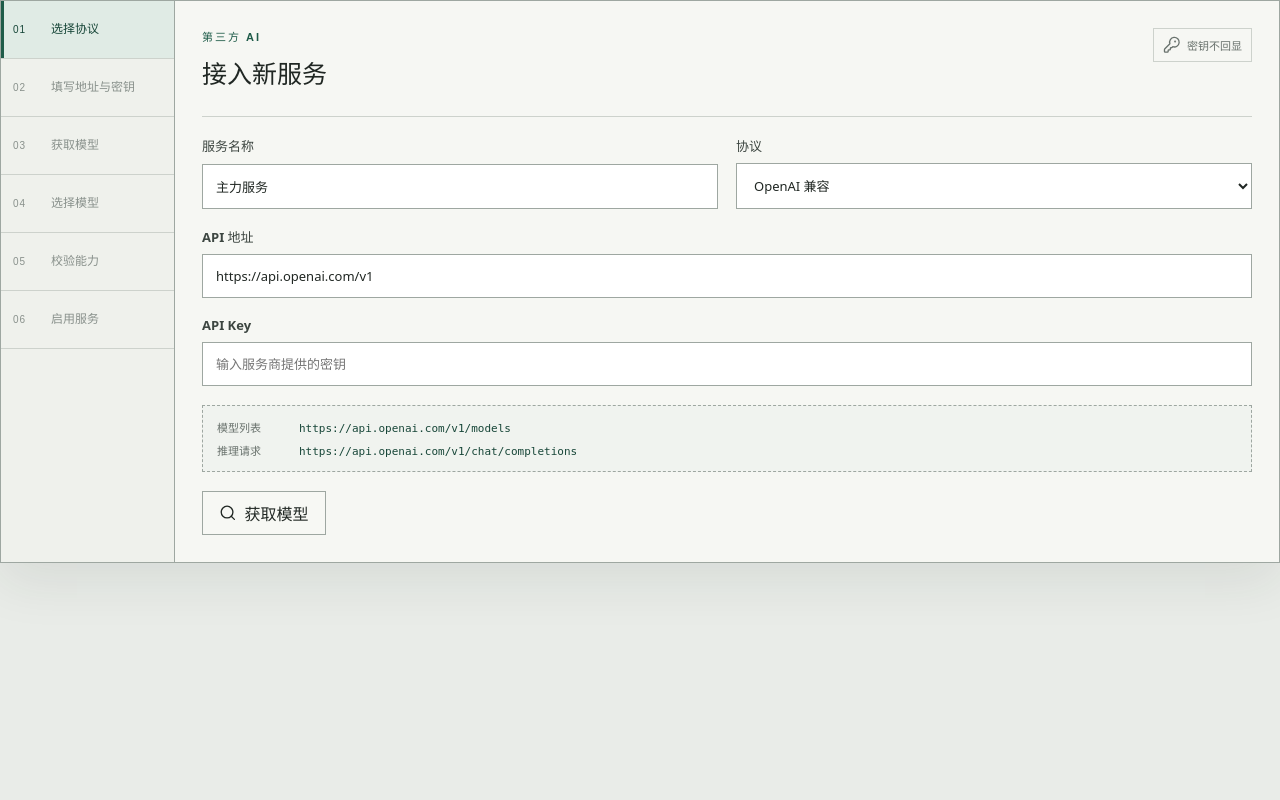
it: previews endpoints, fetches models, probes capabilities, and enables a provider
The image size is (1280, 800).
Select "Anthropic" in the dropdown labelled "协议". click: {"x": 994, "y": 186}
box: left=736, top=163, right=1252, bottom=209
Replace the text in the field labelled "API 地址" with "https://relay.test". click: {"x": 727, "y": 276}
box: left=202, top=254, right=1252, bottom=298
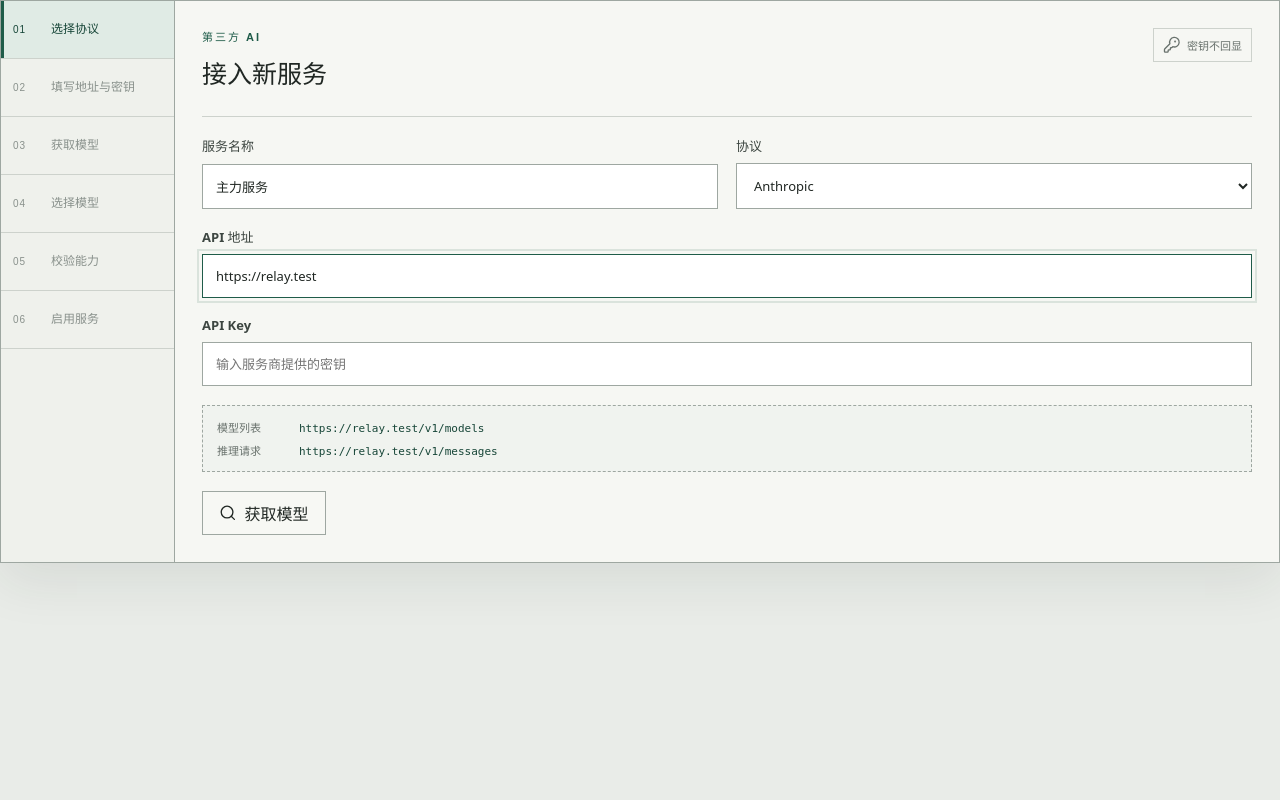
Check: the text "https://relay.test/v1/models" is shown, box left=299, top=422, right=484, bottom=435
Type "sk-test" into the password field labelled "API Key". click: {"x": 727, "y": 364}
box: left=202, top=342, right=1252, bottom=386
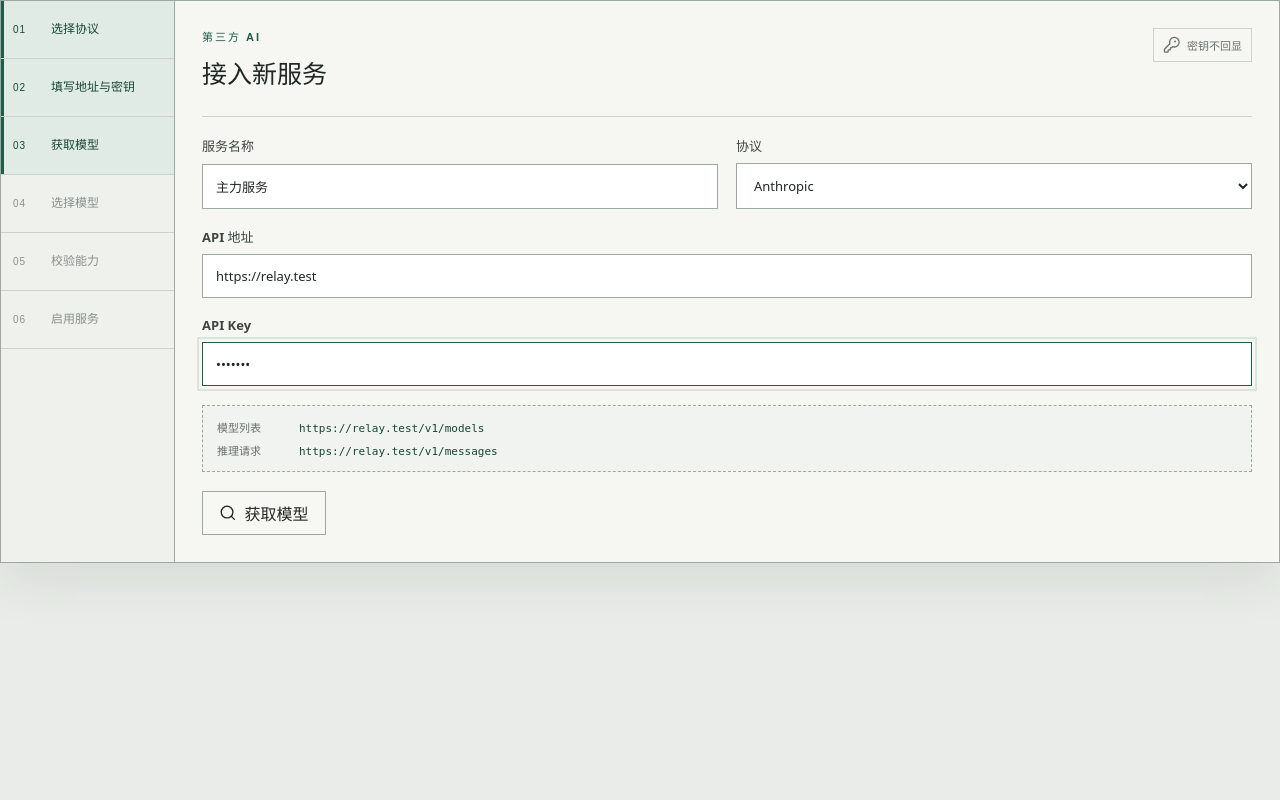
Click the button "获取模型". click: {"x": 264, "y": 513}
box: left=202, top=491, right=326, bottom=535
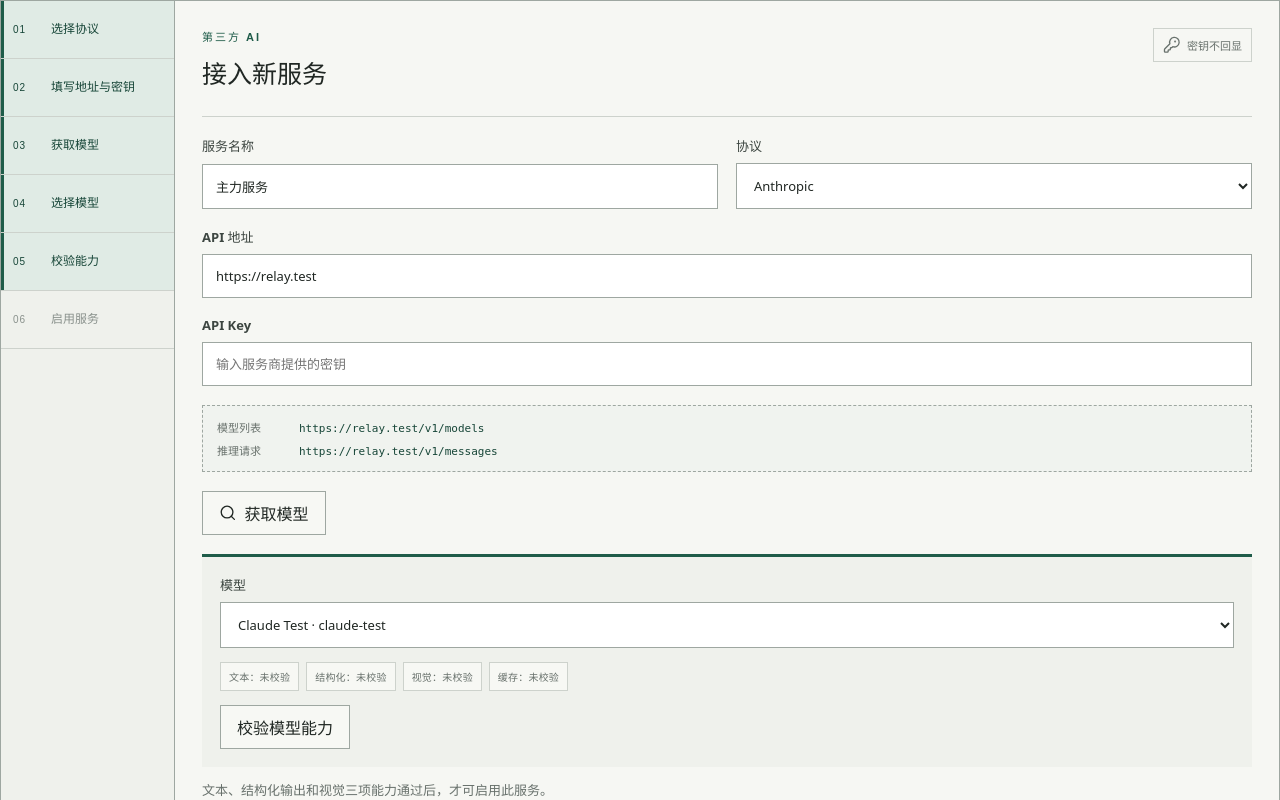
Select "Claude Test · claude-test" in the dropdown labelled "模型". click: {"x": 727, "y": 625}
box: left=220, top=602, right=1234, bottom=648
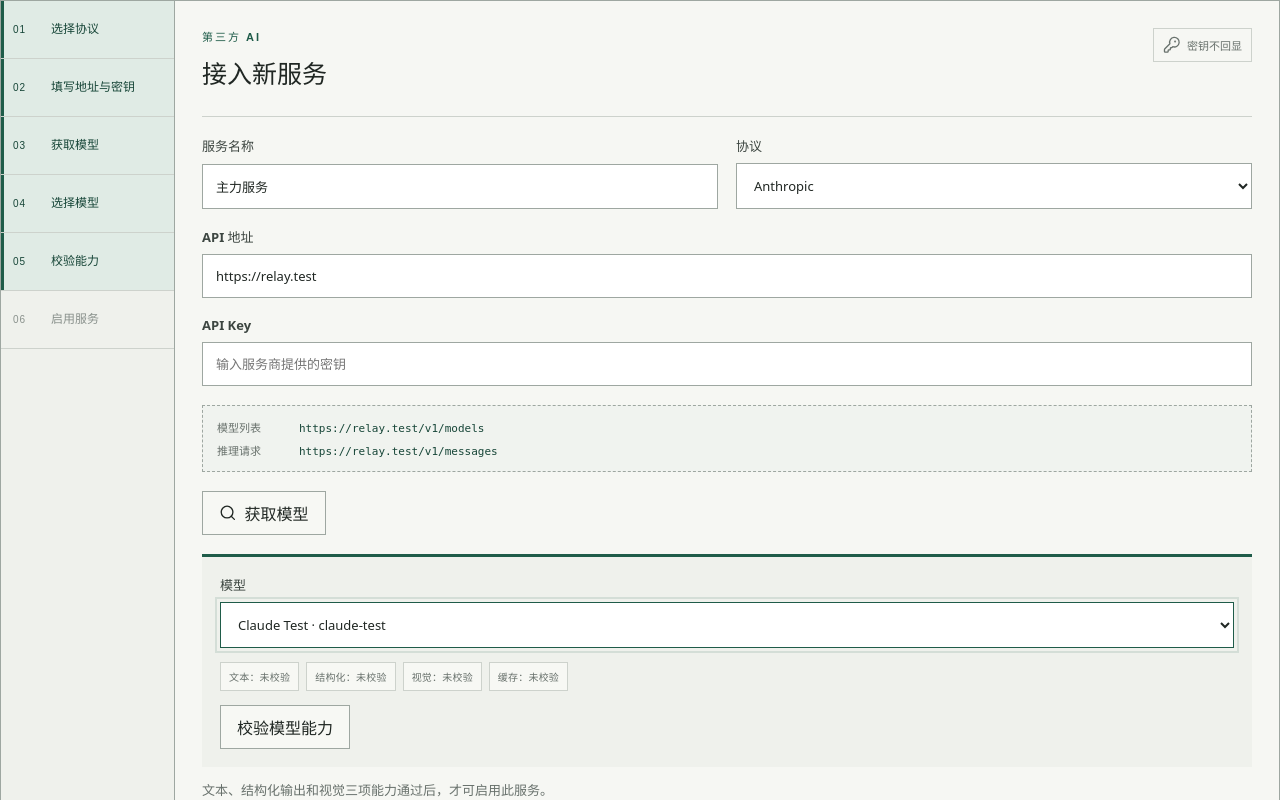
Click the button "校验模型能力". click: {"x": 285, "y": 727}
box: left=220, top=705, right=350, bottom=749
(page scrolled)
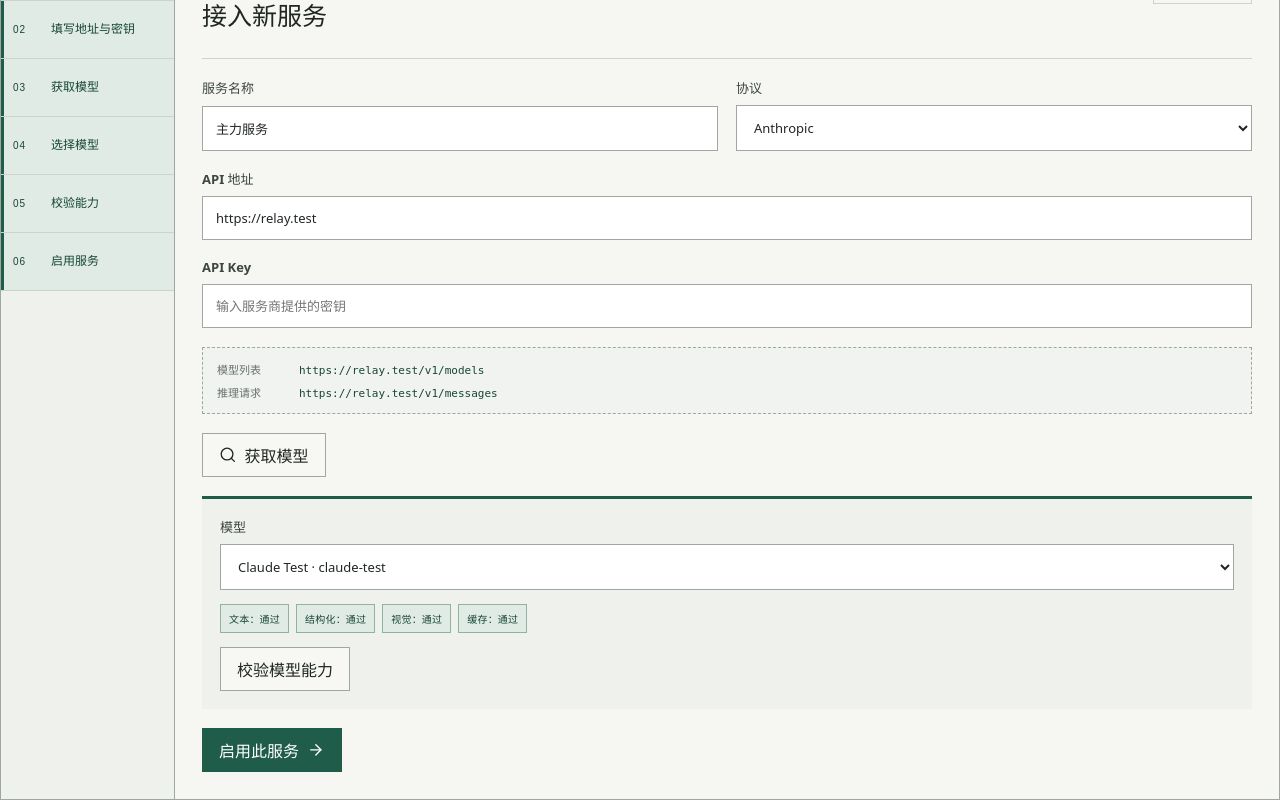
Check: the text "视觉：通过" is shown, box left=382, top=604, right=451, bottom=633
Click the button "启用此服务". click: {"x": 272, "y": 750}
box: left=202, top=728, right=342, bottom=772
(page scrolled)
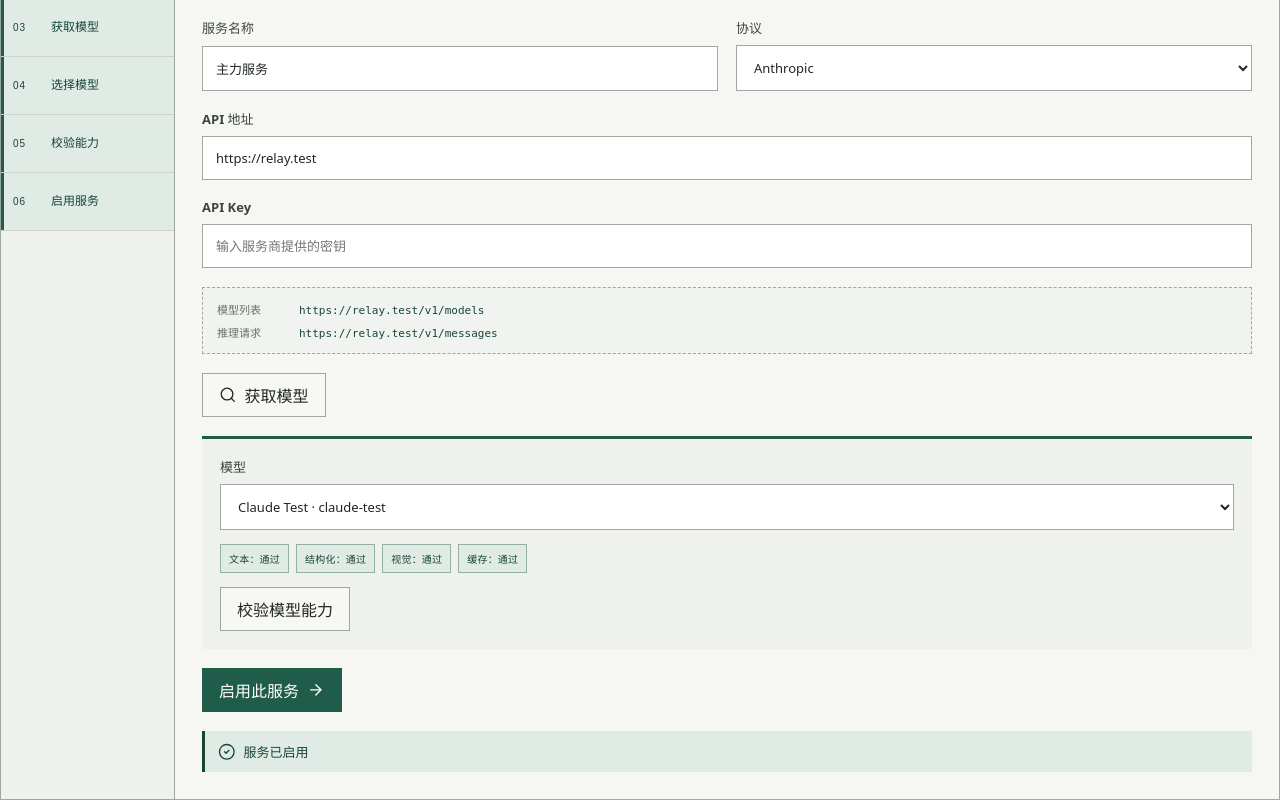
Check: the text "服务已启用" is shown, box left=202, top=731, right=1252, bottom=772
